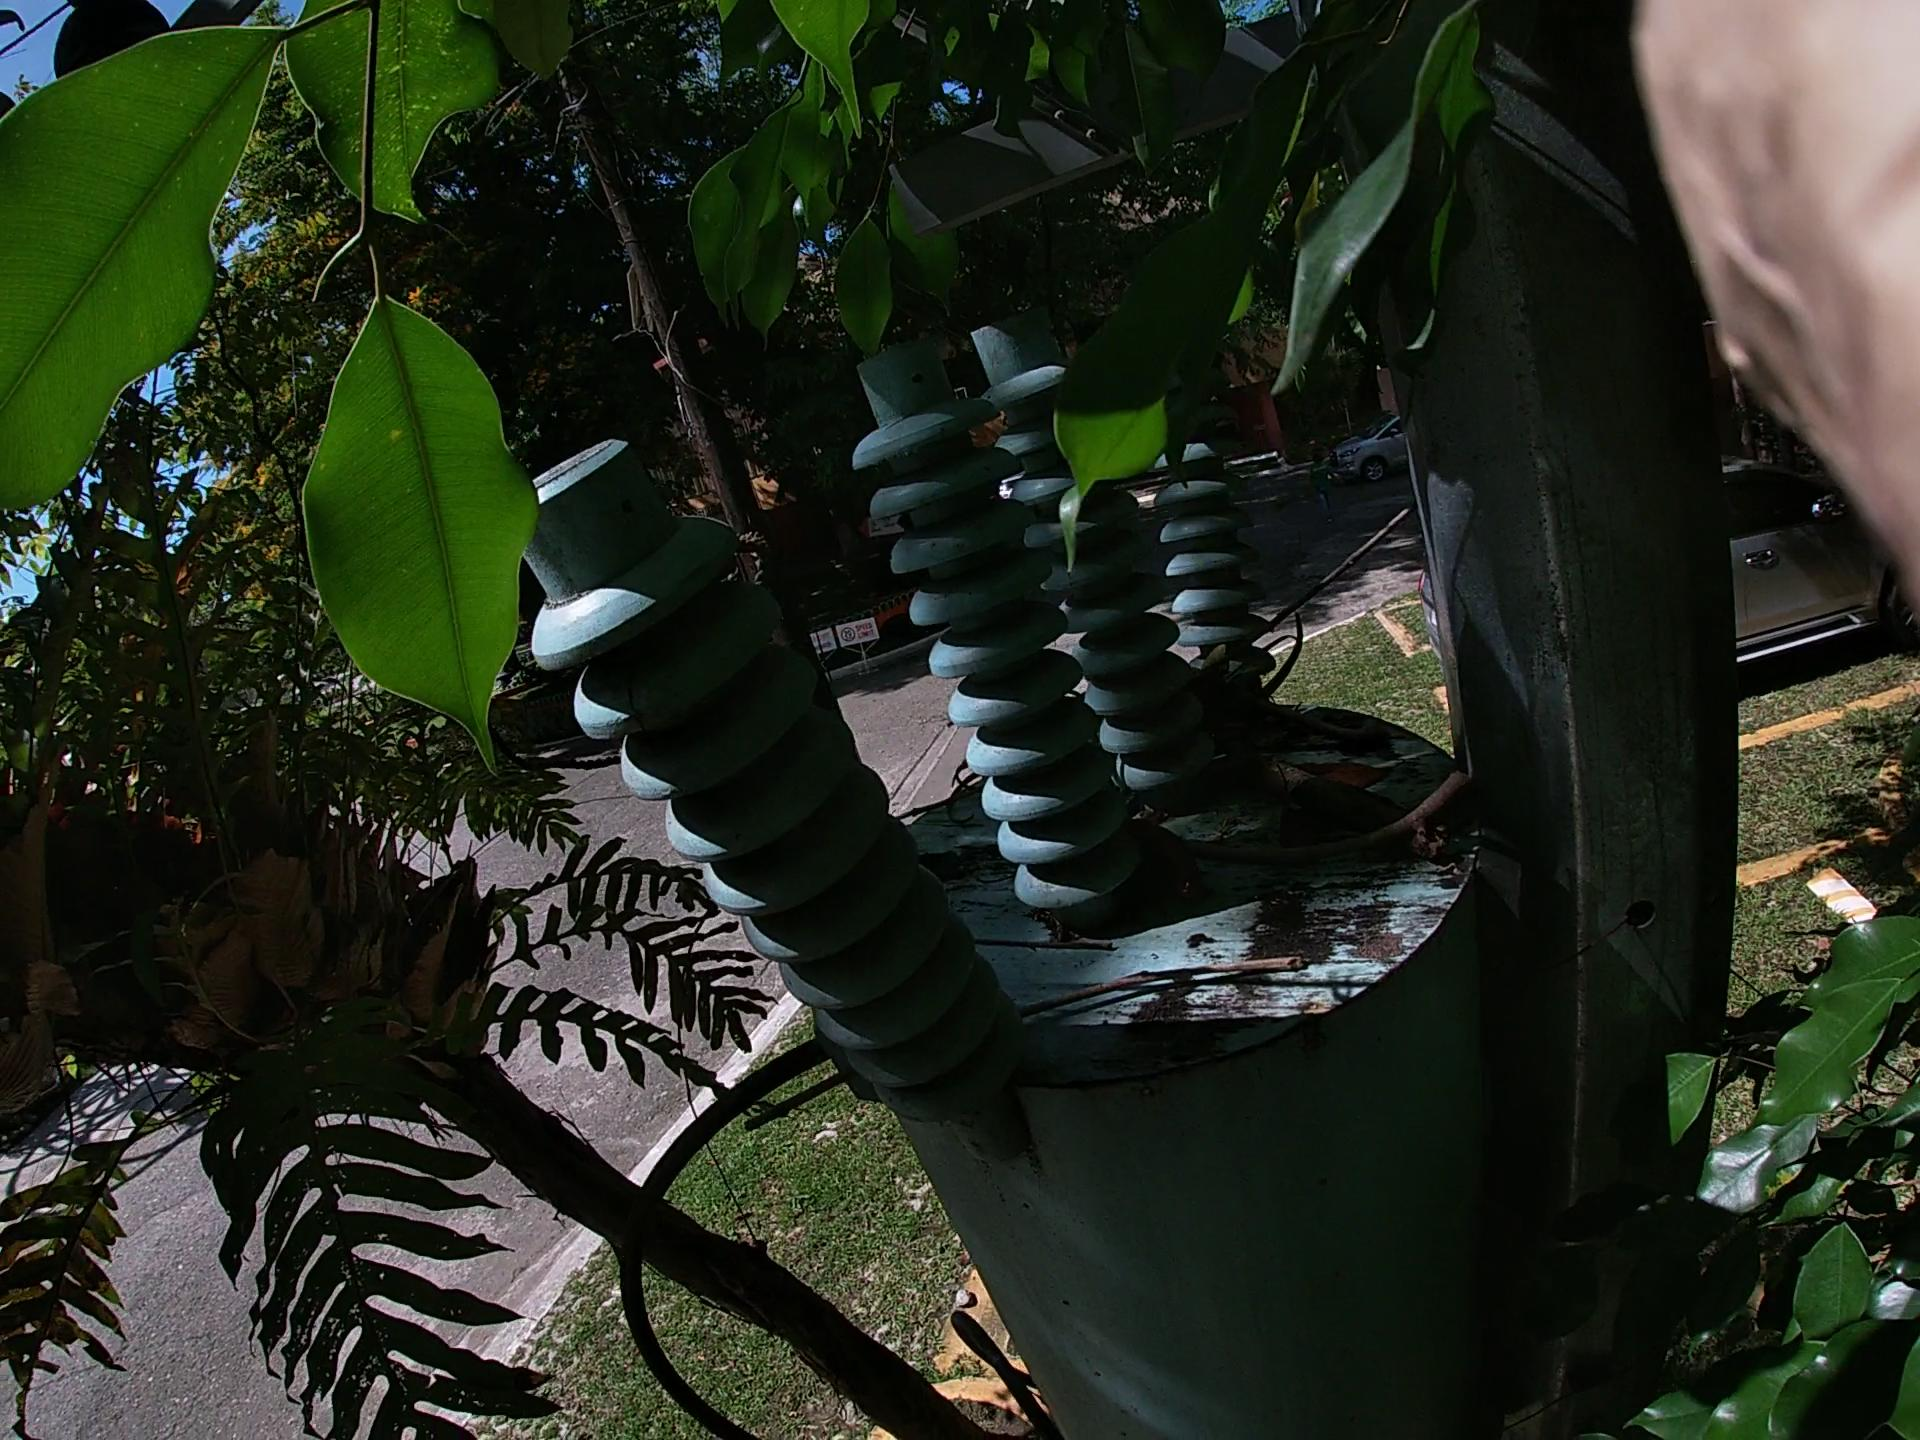leaf: (1205, 725, 1373, 796)
mahogany fruit: (1194, 731, 1401, 843)
tree branch: (584, 489, 1435, 1218), (750, 895, 1412, 1156), (1150, 802, 1485, 864)
